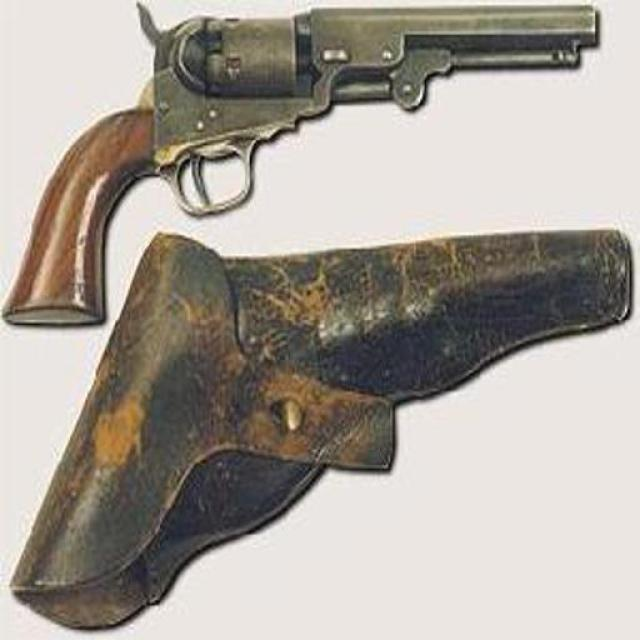pistol: (1, 2, 605, 330)
